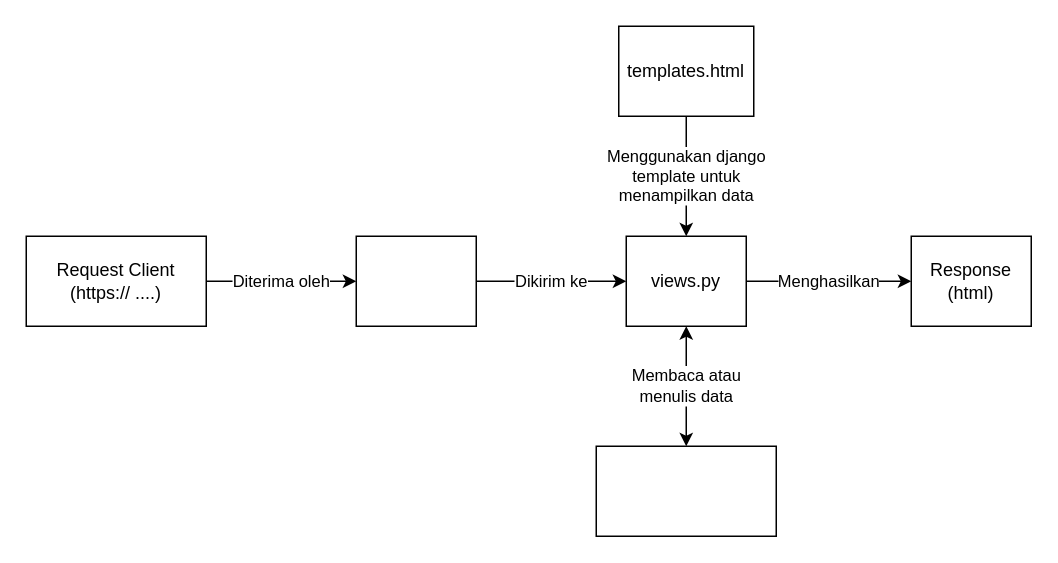
Some shapes in this 1058 by 563 pixel diagram are drawn without their labels. The box of each missing label's shape, as (x1, y1, x2, y2) in pixels:
models.py: (595, 445, 776, 536)
urls.py: (355, 235, 476, 326)
